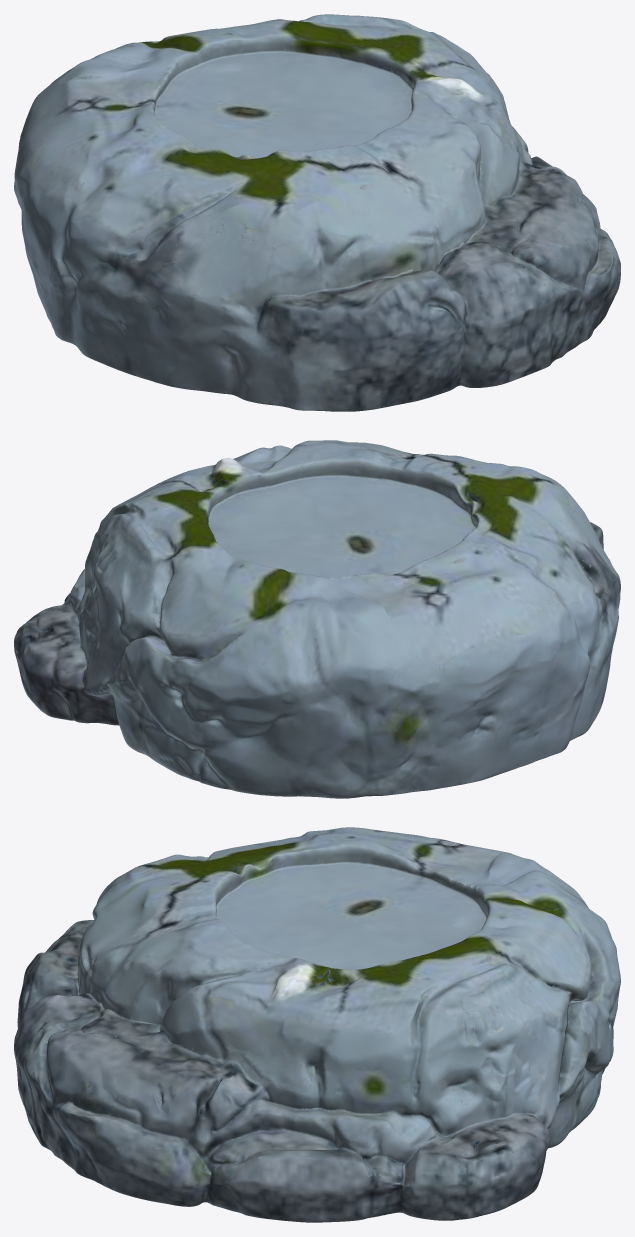
File: plateau.glb
3 views of the same model, one above another, from view 1: azimuth 30°, elevation 25°; view 2: azimuth 150°, elevation 25°; view 3: azimuth 270°, elevation 25° (orthographic). The views are drawn at different scales.
Bounding box in the file's own units: 1.88 × 0.6532 × 1.9.
1 material, 1 textured.
